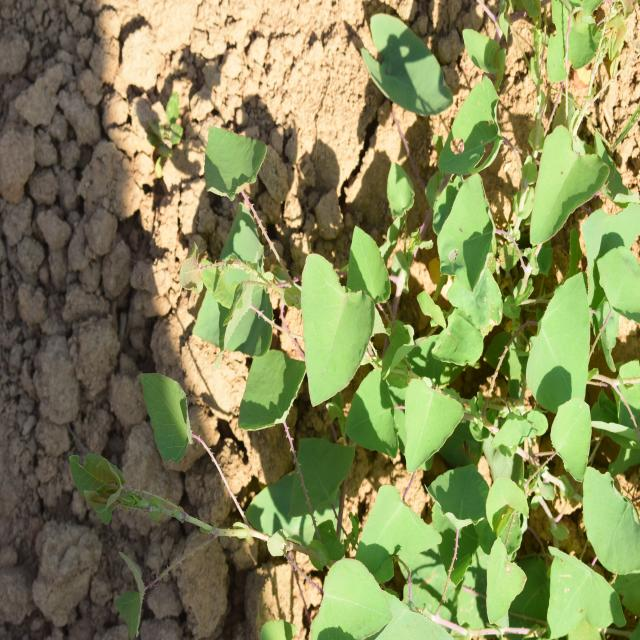Asiatic_Smartweed: (74, 344, 322, 614), (188, 109, 331, 438), (369, 26, 506, 368), (288, 199, 464, 461), (498, 184, 640, 469), (304, 456, 520, 640), (531, 455, 637, 629)
